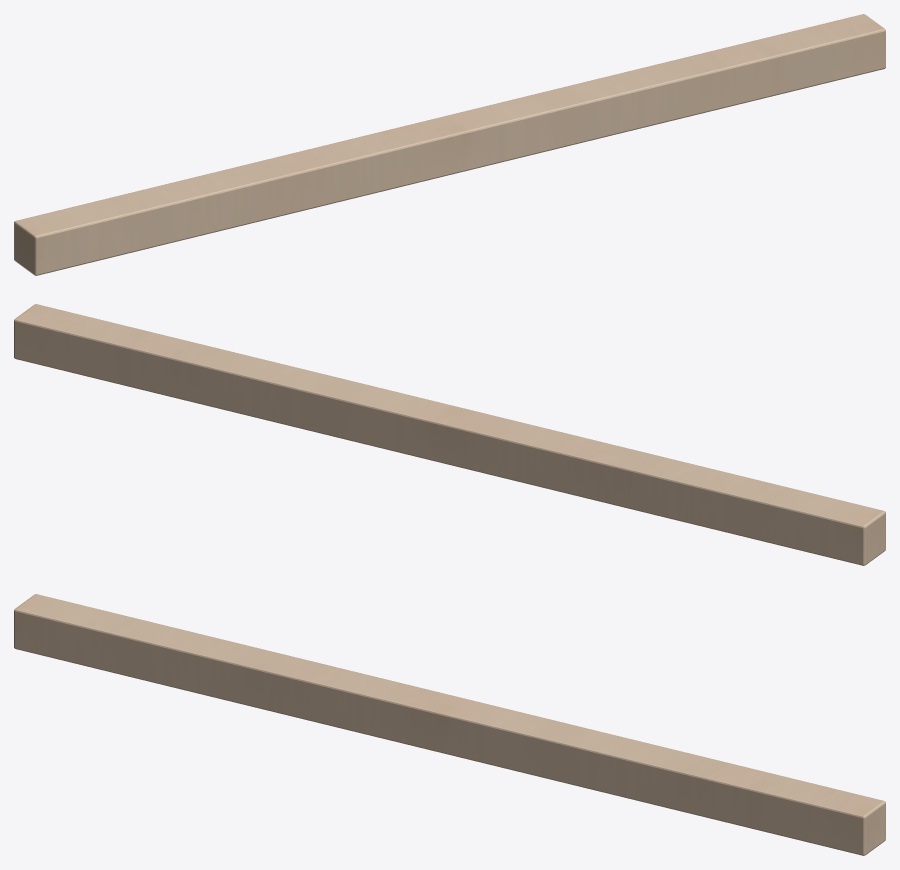
The model's file is bench-bearer-1.0.0.glb.
The picture shows the model from 3 angles, top to bottom: view 1: azimuth 30°, elevation 25°; view 2: azimuth 150°, elevation 25°; view 3: azimuth 330°, elevation 25°; orthographic projection.
Visible parts, largest first — view 1: bearer; view 2: bearer; view 3: bearer.
Boxes of the visible parts, left/top/right/bottom form: bearer: left=14, top=14, right=885, bottom=275; bearer: left=14, top=304, right=885, bottom=565; bearer: left=14, top=594, right=885, bottom=855.
Size of the model in its own units: 1 by 0.045 by 0.045.
1 material, 1 textured.
